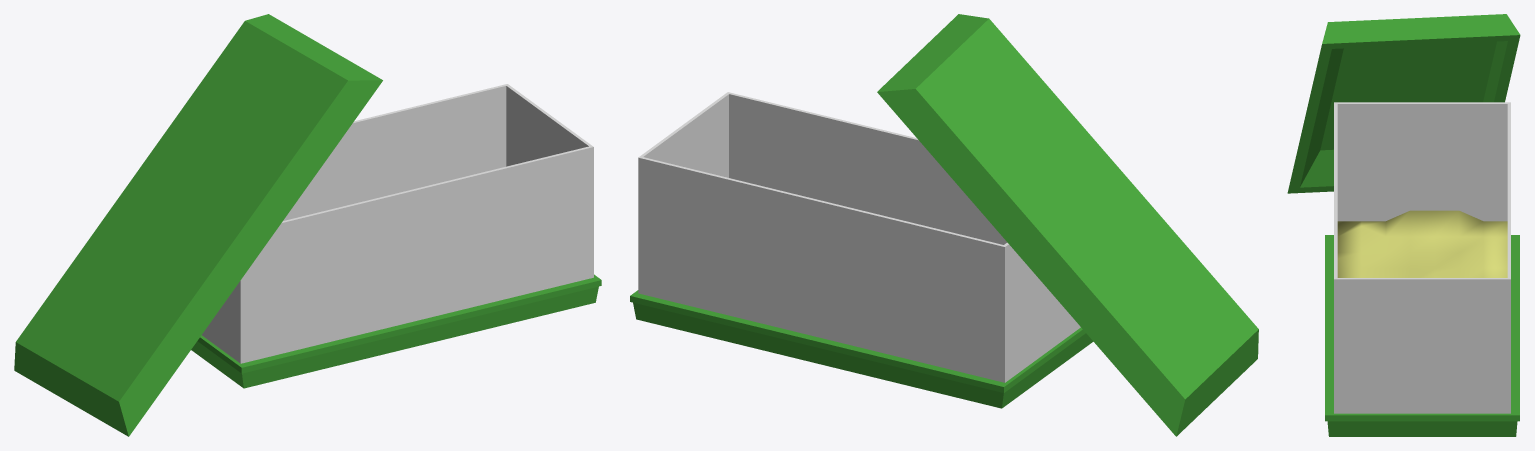
Rendered from cage.fbx.
The picture shows the model from 3 angles, left to right: view 1: azimuth 30°, elevation 25°; view 2: azimuth 150°, elevation 25°; view 3: azimuth 270°, elevation 25°; orthographic projection. The views are drawn at different scales.
Parts seen in each view (by area): view 1: Rat Cage; view 2: Rat Cage; view 3: Rat Cage.
Part boxes in pixels (box(x1,y1,x2,y2)): Rat Cage: box(14, 14, 601, 436); Rat Cage: box(630, 14, 1258, 436); Rat Cage: box(1287, 14, 1520, 436).
Bounding box in the file's own units: 2406 × 922 × 1272.
